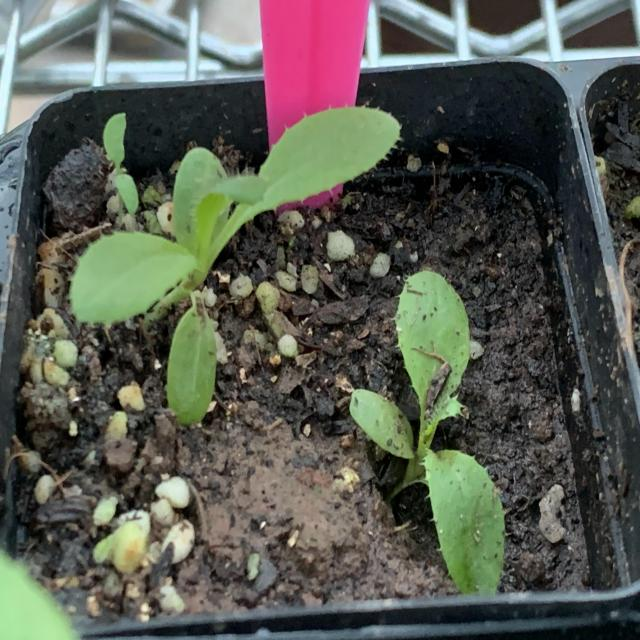field_thistle: (67, 71, 400, 391), (339, 226, 532, 600)
